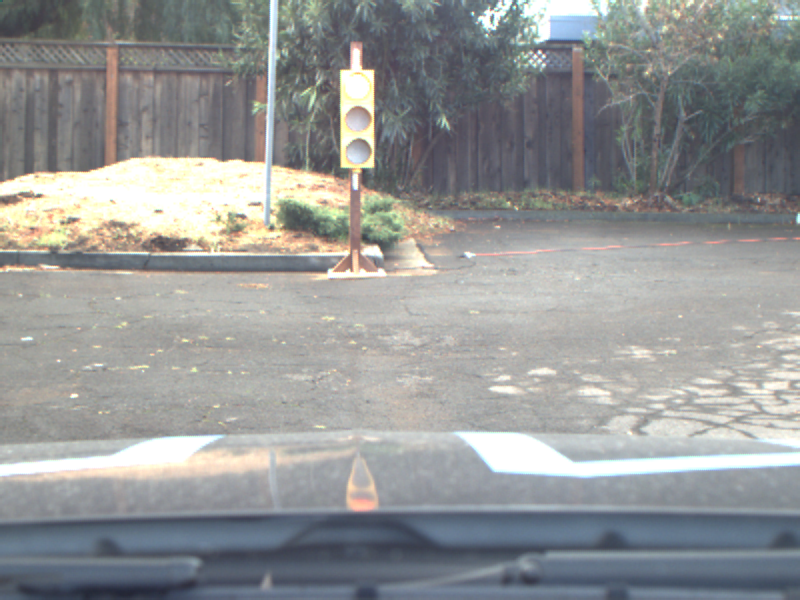Red: (340, 69, 374, 168)
